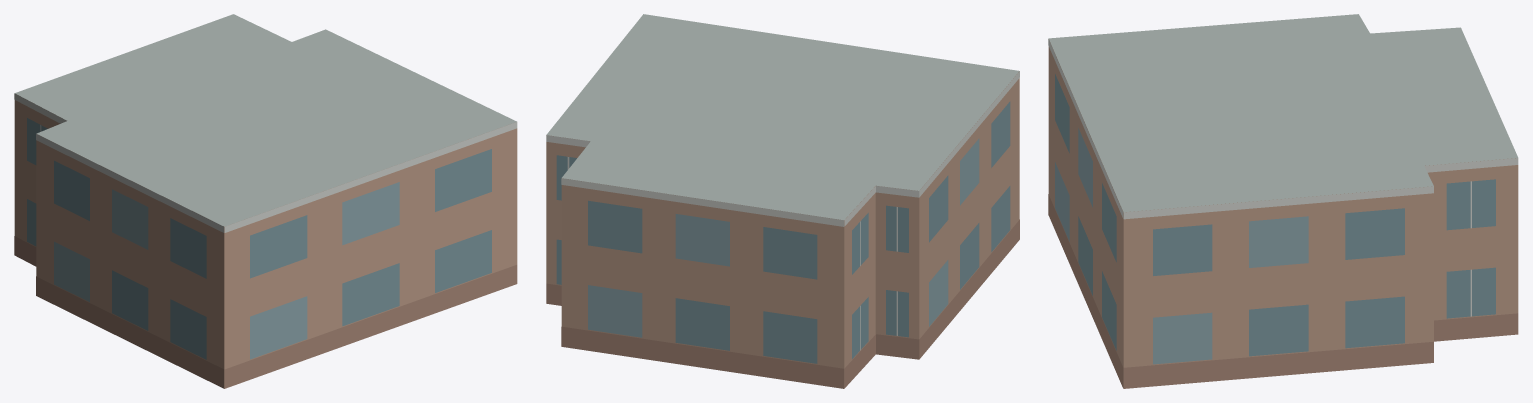
File: survey-upis-32879560.glb
3 views of the same model, side by side, from view 1: azimuth 30°, elevation 25°; view 2: azimuth 150°, elevation 25°; view 3: azimuth 270°, elevation 25° (orthographic). The views are drawn at different scales.
Parts seen in each view (by area): view 1: survey-upis-32879560.tmp; view 2: survey-upis-32879560.tmp; view 3: survey-upis-32879560.tmp.
Part boxes in pixels (x1,y1,x2,y2): survey-upis-32879560.tmp: (14, 14, 517, 388); survey-upis-32879560.tmp: (546, 14, 1019, 388); survey-upis-32879560.tmp: (1048, 14, 1518, 388).
Size of the model in its own units: 14.7 by 6.1 by 14.72.
